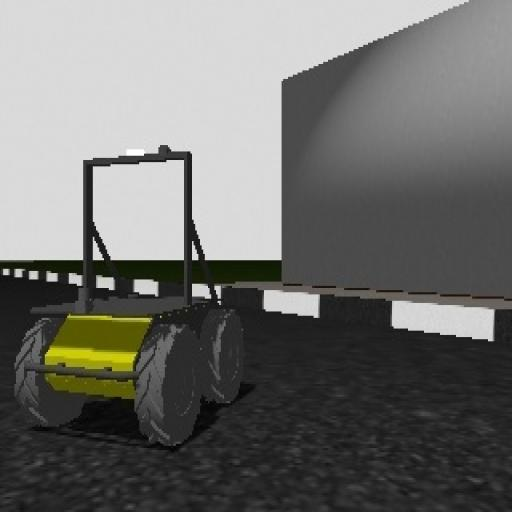huskya200: (10, 144, 244, 444)
